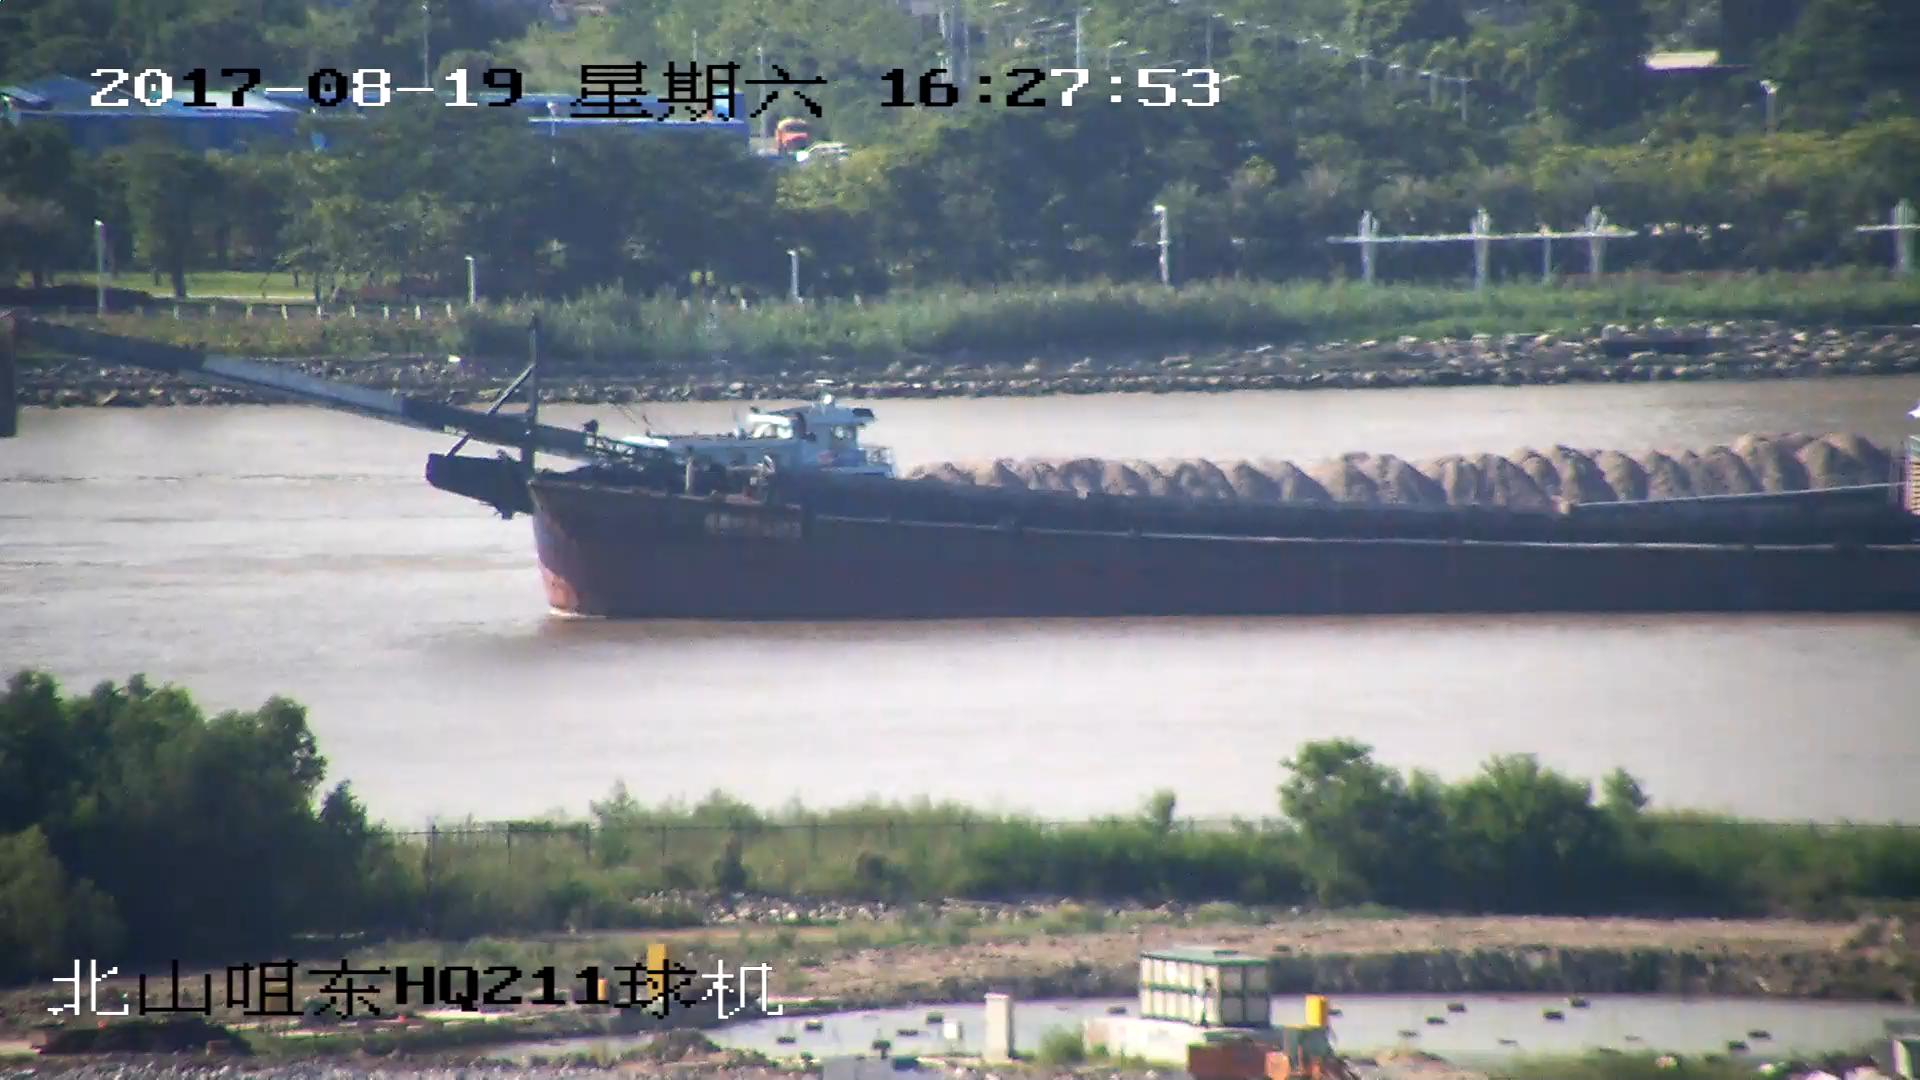bulk cargo carrier: (15, 301, 1919, 616)
ore carrier: (896, 426, 1920, 526)
